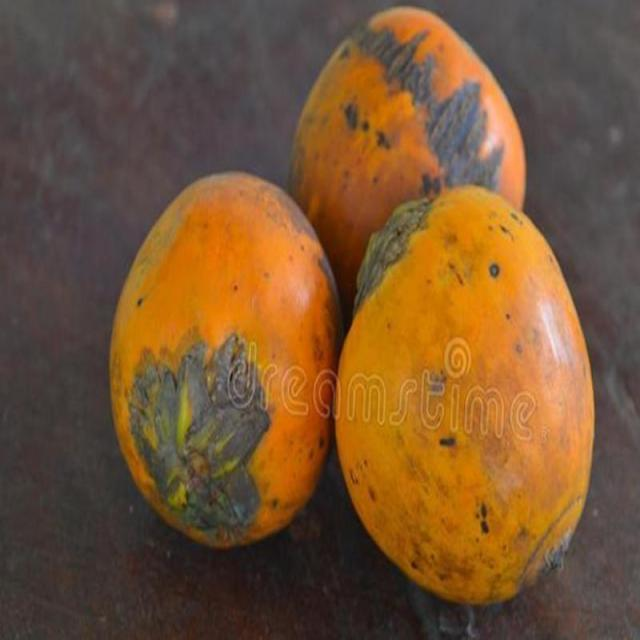good: (332, 185, 595, 610), (108, 173, 348, 553), (284, 8, 526, 318)
